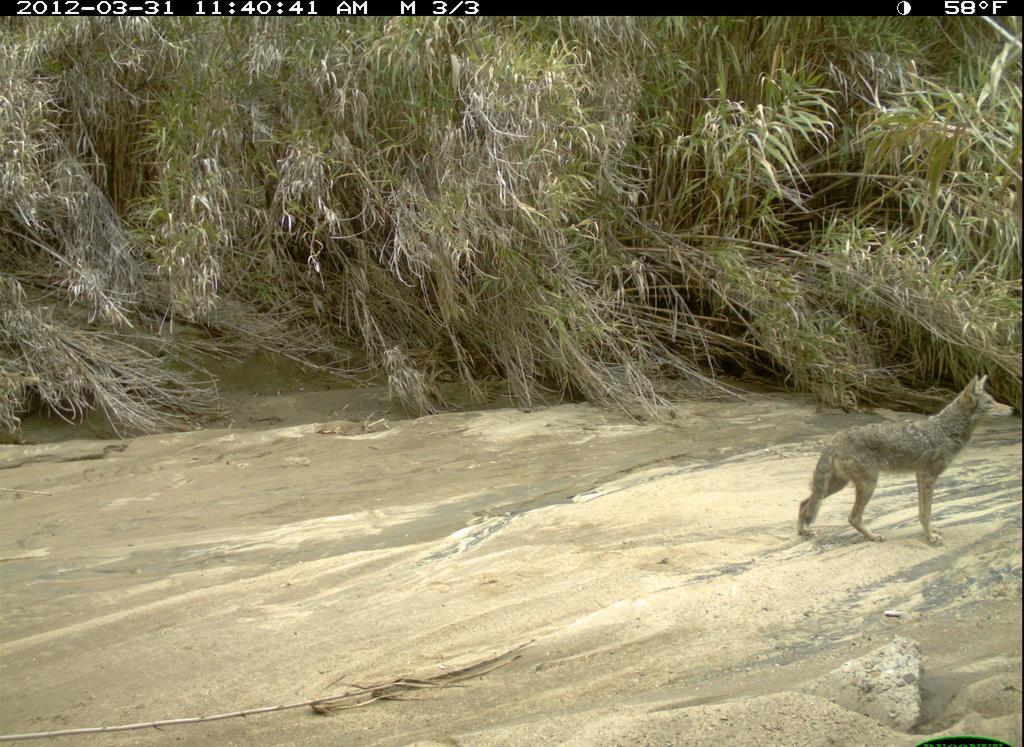coyote: (780, 358, 1021, 574)
